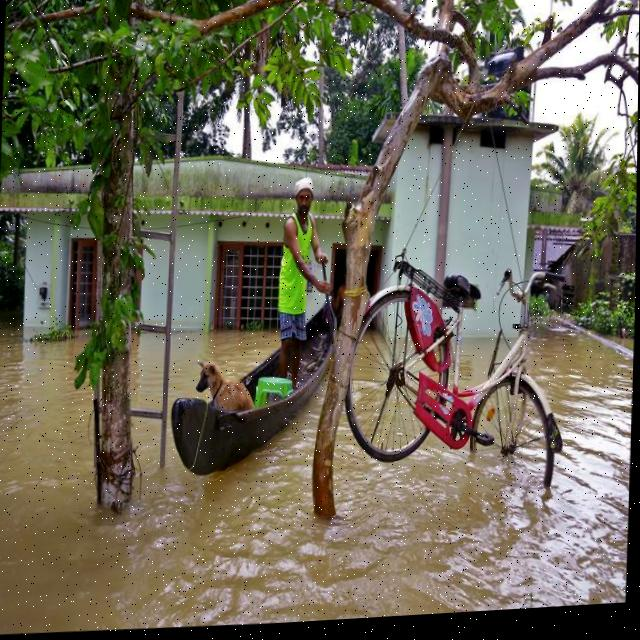civilian: (264, 169, 326, 396)
dog: (179, 347, 265, 428)
